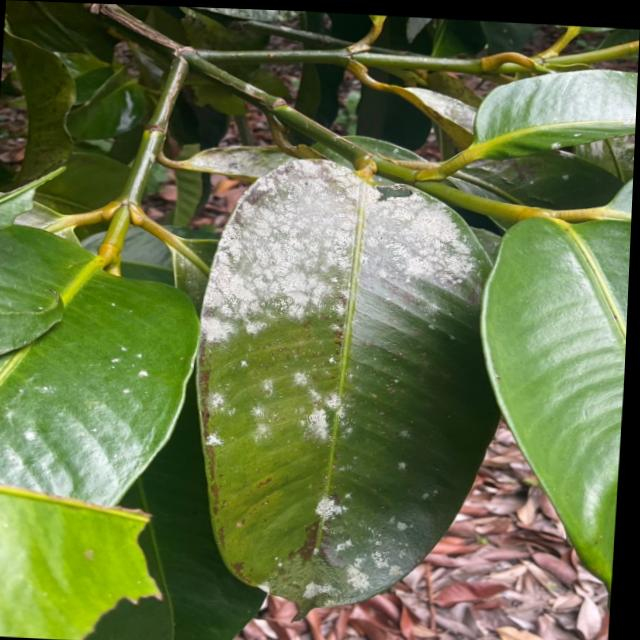Leaf Spot: (184, 138, 524, 333), (258, 347, 415, 457), (310, 493, 421, 602)
